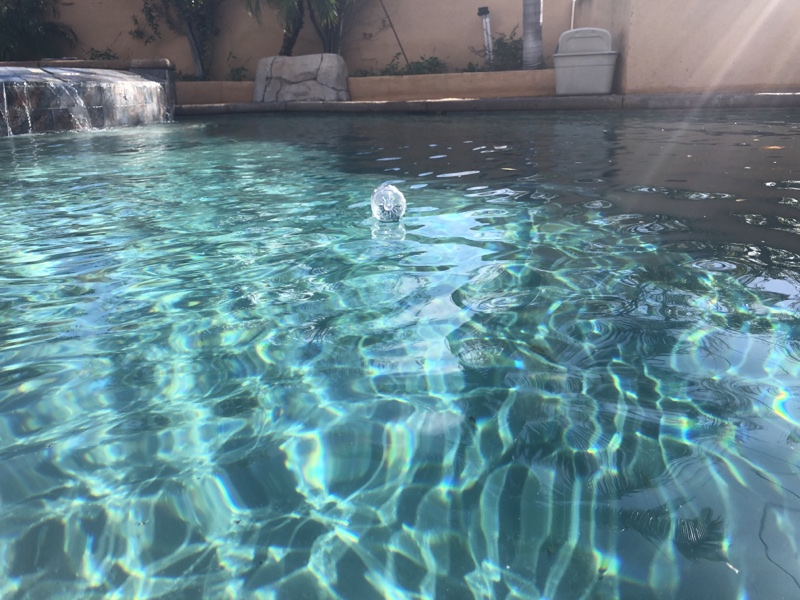Plastic Bottle: (368, 180, 407, 228)
